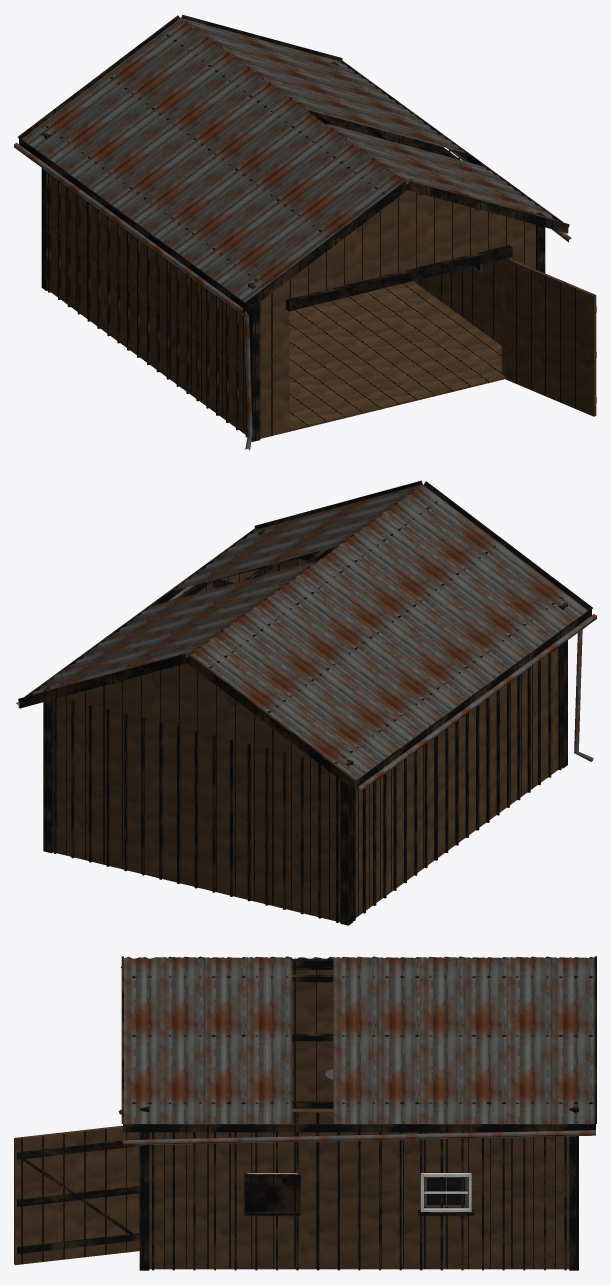
File: boathouse.glb
3 renders of one model, top to bottom at view 1: azimuth 30°, elevation 25°; view 2: azimuth 150°, elevation 25°; view 3: azimuth 270°, elevation 25°, orthographic. The views are drawn at different scales.
Visible parts, largest first — view 1: detail, shell-col; view 2: detail, shell-col; view 3: detail, shell-col.
Boxes of the visible parts, <box> form: detail: <box>14,14,571,450</box>; shell-col: <box>51,125,596,438</box>; detail: <box>16,480,596,925</box>; shell-col: <box>53,558,558,922</box>; detail: <box>118,956,596,1270</box>; shell-col: <box>14,970,569,1269</box>.
Size of the model in its own units: 9.23 by 6.12 by 13.43.
13 materials, 13 textured.
